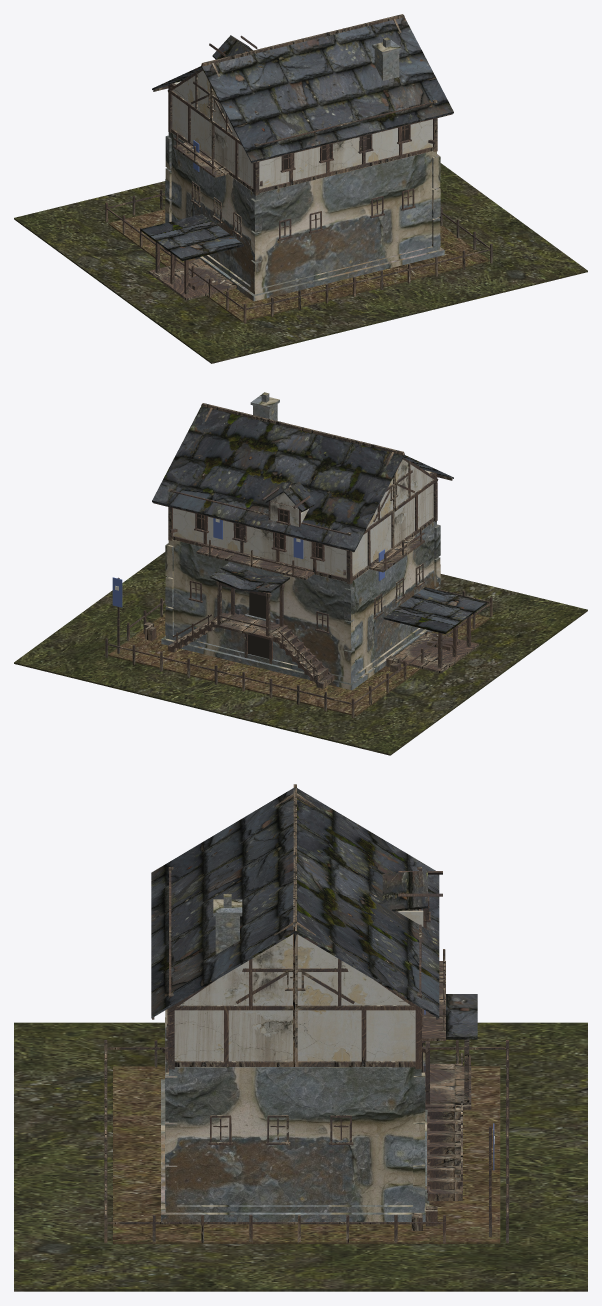
The model's file is barrosan_civic_keep_a01.glb.
3 views of the same model, one above another, from view 1: azimuth 30°, elevation 25°; view 2: azimuth 150°, elevation 25°; view 3: azimuth 270°, elevation 25° (orthographic). The views are drawn at different scales.
Parts seen in each view (by area): view 1: YardGrass, KeepStoneBody, RoofSouth, KeepUpperPlaster, YardPacked, LeanToRoof, KeepFoundation, LeanToDeck, KeepPlinth, GableWest, RidgeBeam, Sill_X_1 (+3 smaller); view 2: YardGrass, RoofNorth, KeepStoneBody, YardPacked, KeepUpperPlaster, LeanToRoof, KeepFoundation, LeanToDeck, KeepPlinth, GableWest, FrontGallery_Deck, PorchDeck (+6 smaller); view 3: YardGrass, KeepStoneBody, YardPacked, RoofSouth, RoofNorth, KeepUpperPlaster, GableEast, KeepFoundation, KeepPlinth, DormerRoof_R, PorchDeck, Sill_Y_0 (+5 smaller).
Part boxes in pixels (x1=…): YardGrass: x1=14, y1=163, x2=587, y2=363; KeepStoneBody: x1=168, y1=132, x2=436, y2=287; RoofSouth: x1=201, y1=17, x2=453, y2=162; KeepUpperPlaster: x1=172, y1=81, x2=432, y2=188; YardPacked: x1=108, y1=209, x2=489, y2=321; LeanToRoof: x1=140, y1=214, x2=243, y2=261; KeepFoundation: x1=195, y1=247, x2=444, y2=301; LeanToDeck: x1=148, y1=258, x2=237, y2=300; KeepPlinth: x1=203, y1=246, x2=439, y2=294; GableWest: x1=172, y1=70, x2=238, y2=139; RidgeBeam: x1=201, y1=14, x2=404, y2=66; Sill_X_1: x1=259, y1=147, x2=433, y2=193; YardGrass: x1=14, y1=552, x2=587, y2=755; RoofNorth: x1=152, y1=406, x2=404, y2=551; KeepStoneBody: x1=168, y1=521, x2=436, y2=676; YardPacked: x1=108, y1=613, x2=489, y2=716; KeepUpperPlaster: x1=173, y1=470, x2=433, y2=577; LeanToRoof: x1=383, y1=587, x2=486, y2=633; KeepFoundation: x1=161, y1=629, x2=432, y2=690; LeanToDeck: x1=394, y1=631, x2=478, y2=673; KeepPlinth: x1=166, y1=628, x2=424, y2=683; GableWest: x1=367, y1=459, x2=433, y2=527; FrontGallery_Deck: x1=196, y1=546, x2=314, y2=579; PorchDeck: x1=213, y1=611, x2=287, y2=639; YardGrass: x1=14, y1=1022, x2=587, y2=1291; KeepStoneBody: x1=169, y1=1067, x2=421, y2=1205; YardPacked: x1=113, y1=1066, x2=500, y2=1243; RoofSouth: x1=151, y1=788, x2=295, y2=1018; RoofNorth: x1=295, y1=788, x2=439, y2=1018; KeepUpperPlaster: x1=174, y1=1010, x2=415, y2=1061; GableEast: x1=179, y1=934, x2=410, y2=1005; KeepFoundation: x1=161, y1=1079, x2=429, y2=1221; KeepPlinth: x1=165, y1=1205, x2=424, y2=1212; DormerRoof_R: x1=382, y1=870, x2=427, y2=911; PorchDeck: x1=423, y1=1066, x2=471, y2=1109; Sill_Y_0: x1=174, y1=1061, x2=415, y2=1067.
Bounding box in the file's own units: 22 × 11.75 × 20.
11 materials, 6 textured.
